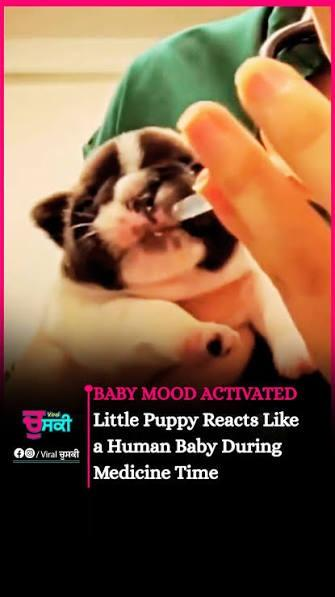puppy-dog: (8, 125, 320, 389)
